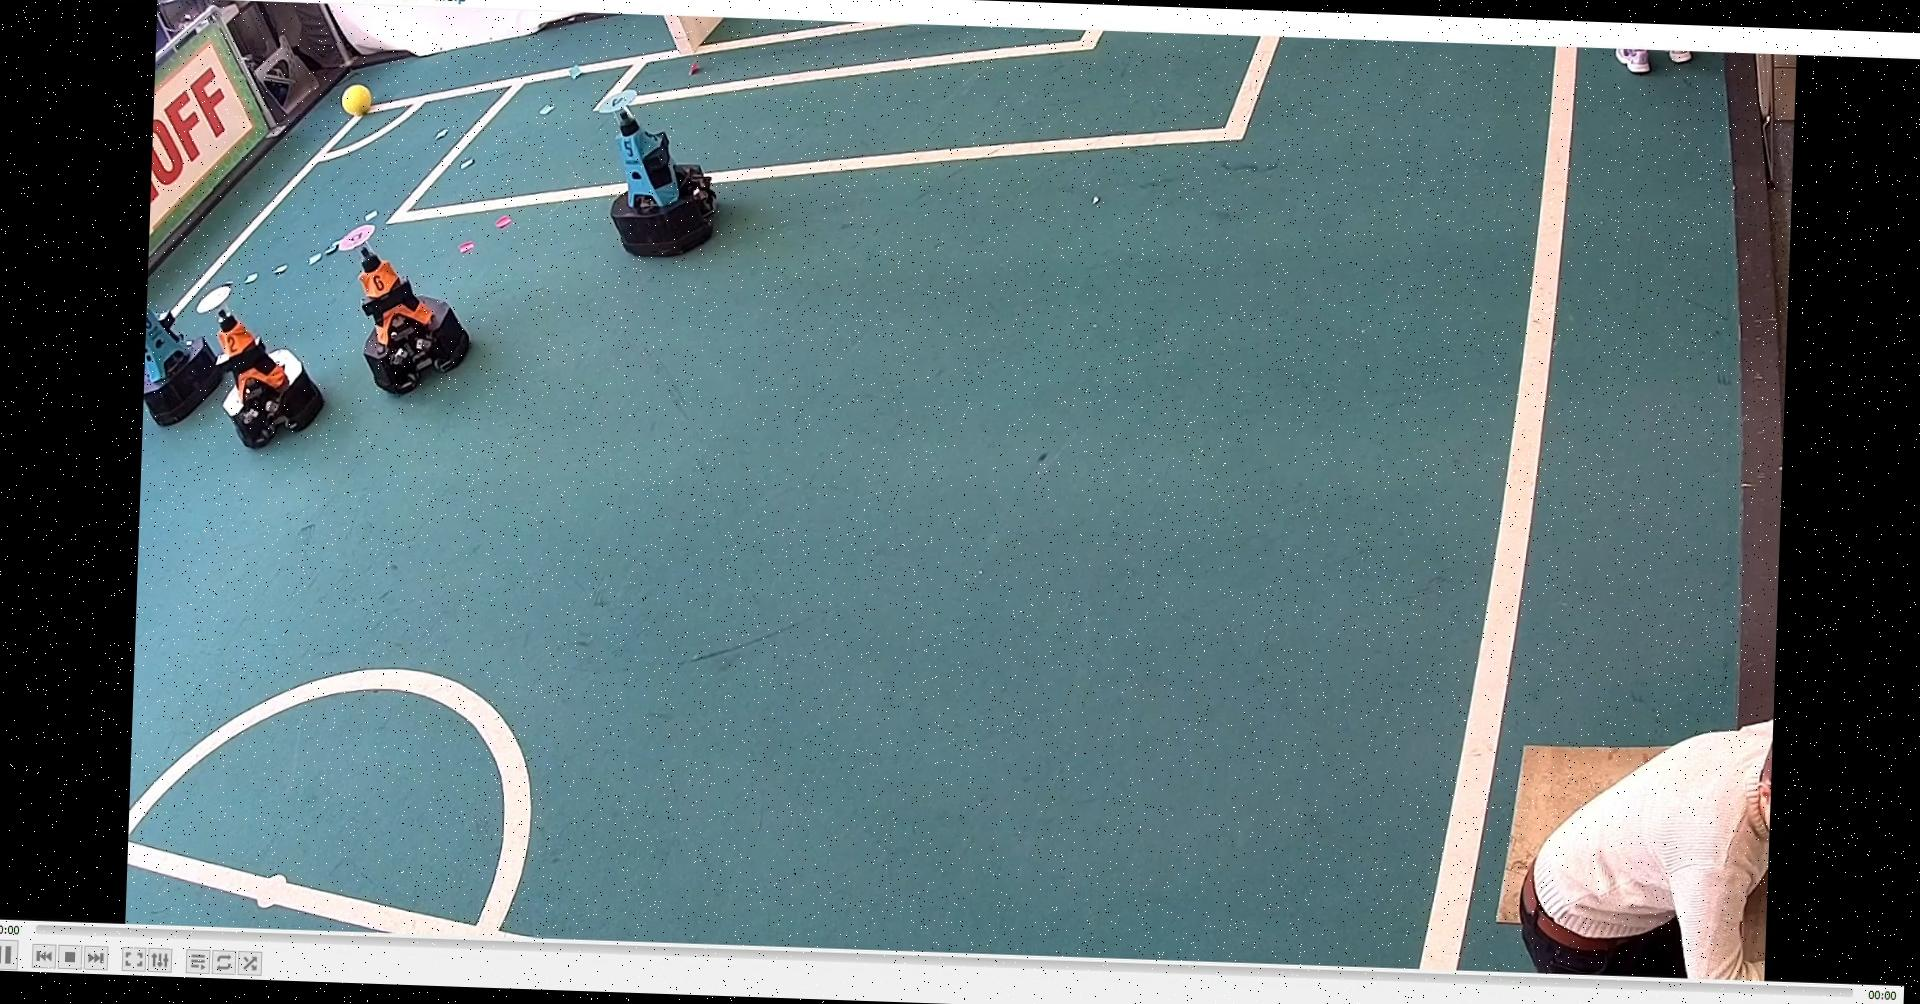Ball: (347, 83, 383, 116)
Team_Blue: (590, 77, 735, 264), (145, 292, 232, 429)
Team_Red: (329, 212, 477, 397), (201, 284, 326, 448)
